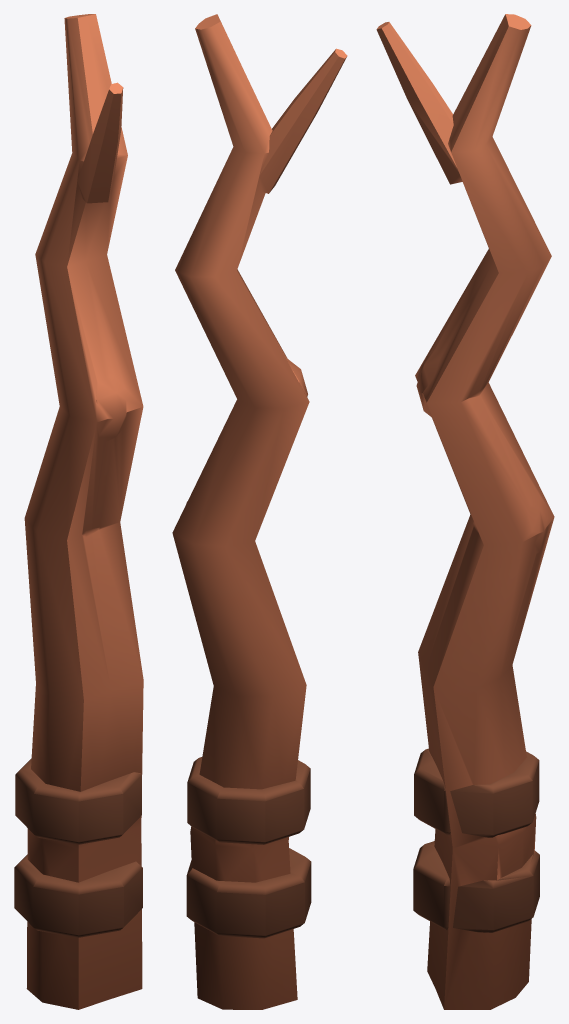
Rendered from wand_crooked.glb.
The picture shows the model from 3 angles, left to right: view 1: azimuth 90°, elevation 25°; view 2: azimuth 150°, elevation 25°; view 3: azimuth 330°, elevation 25°; orthographic projection. The views are drawn at different scales.
Parts seen in each view (by area): view 1: Item; view 2: Item; view 3: Item.
Boxes of the visible parts, x1,y1,x2,y2 form: Item: [14, 14, 143, 1009]; Item: [172, 14, 347, 1009]; Item: [376, 14, 554, 1009].
Size of the model in its own units: 0.1719 by 1.14 by 0.1389.
1 material, 1 textured.
